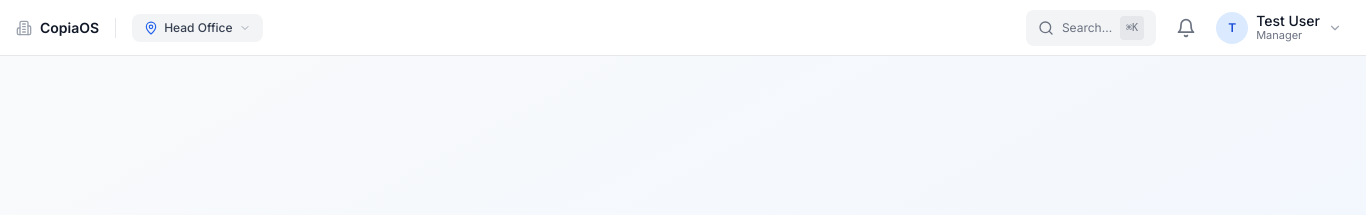
Scenario: Header › shows user menu when clicked
Click the button "T Test User Manager": (1279, 28) [1208,6,1350,50]
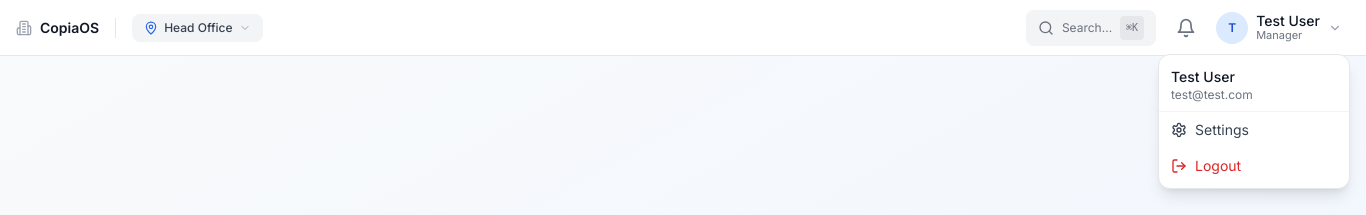
Expected: the button "Settings" is shown, [1159,112,1349,148]
Expected: the button "Logout" is shown, [1159,148,1349,184]
